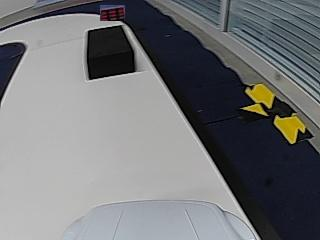block: (84, 26, 136, 80)
